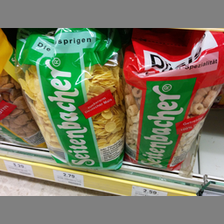cereal: (14, 33, 122, 170), (122, 37, 223, 172)
